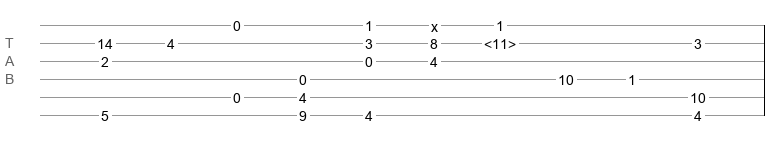0: (233, 90, 241, 100), (233, 18, 241, 28), (299, 72, 307, 82), (365, 54, 373, 64)
1: (365, 18, 373, 28), (496, 18, 504, 28), (628, 72, 636, 82)
10: (558, 72, 574, 82), (690, 90, 706, 100)
14: (97, 36, 113, 46)
2: (101, 54, 109, 64)
3: (365, 36, 373, 46), (694, 36, 702, 46)
4: (167, 36, 175, 46), (299, 90, 307, 100), (365, 108, 373, 118), (430, 54, 438, 64), (694, 108, 702, 118)
5: (101, 108, 109, 118)
8: (430, 36, 438, 46)
9: (299, 108, 307, 118)
harmonic: (484, 36, 516, 46)
x: (431, 19, 438, 27)
